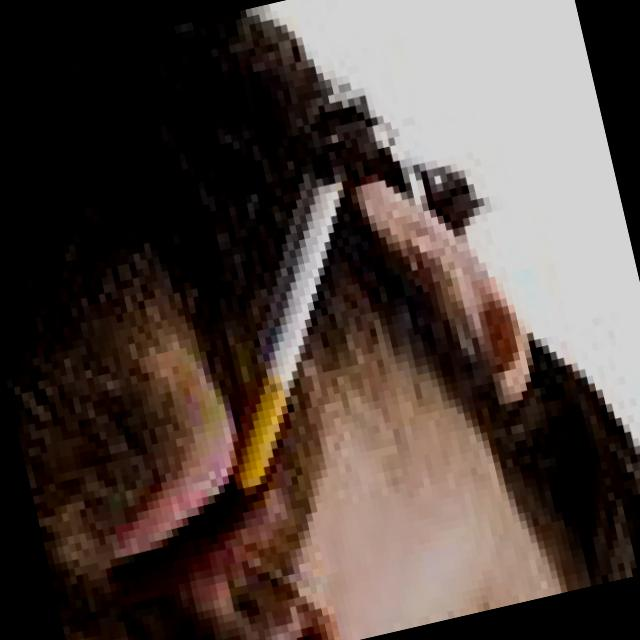cigarette: (146, 116, 428, 522)
